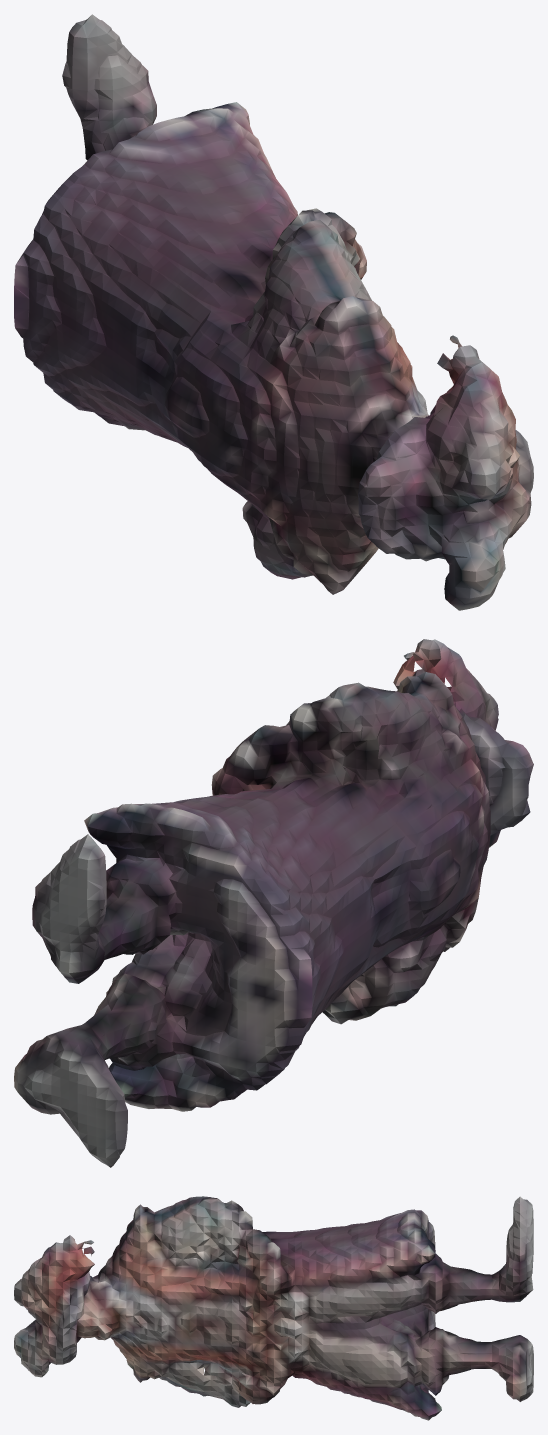
The model's file is renais_commoner_m_0.glb.
3 renders of one model, top to bottom at view 1: azimuth 30°, elevation 25°; view 2: azimuth 150°, elevation 25°; view 3: azimuth 270°, elevation 25°, orthographic. The views are drawn at different scales.
Parts seen in each view (by area): view 1: world; view 2: world; view 3: world.
Part boxes in pixels (<box>): world: <box>14,14,533,610</box>; world: <box>14,639,533,1167</box>; world: <box>14,1196,533,1420</box>.
Size of the model in its own units: 0.3273 by 0.4753 by 1.01.
